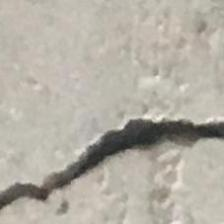Crack: (0, 105, 224, 219)
